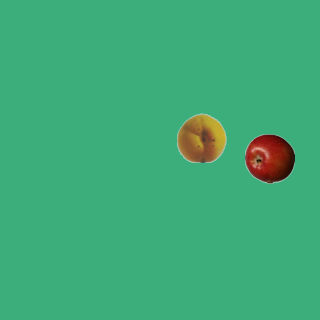Apple Braeburn: (244, 133, 294, 183)
Peach 2: (176, 112, 226, 162)
